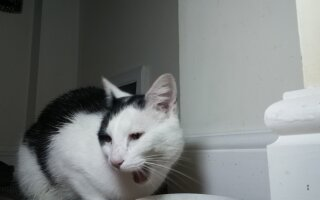bad: (15, 67, 188, 198)
